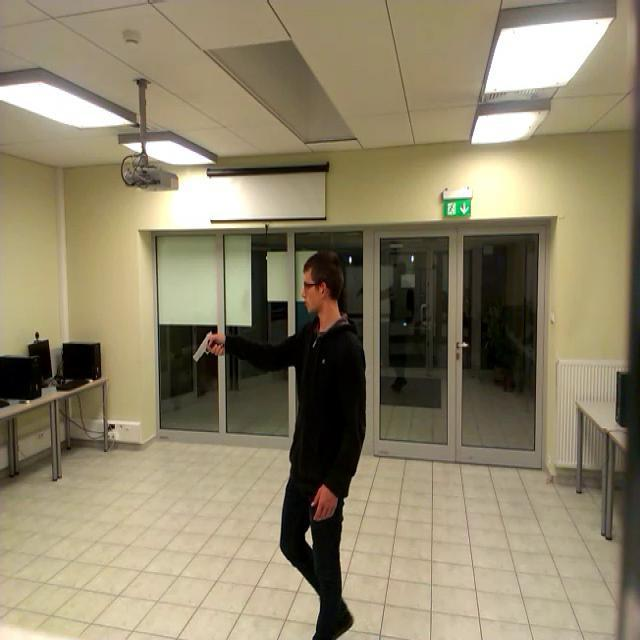Gun: (192, 329, 223, 362)
